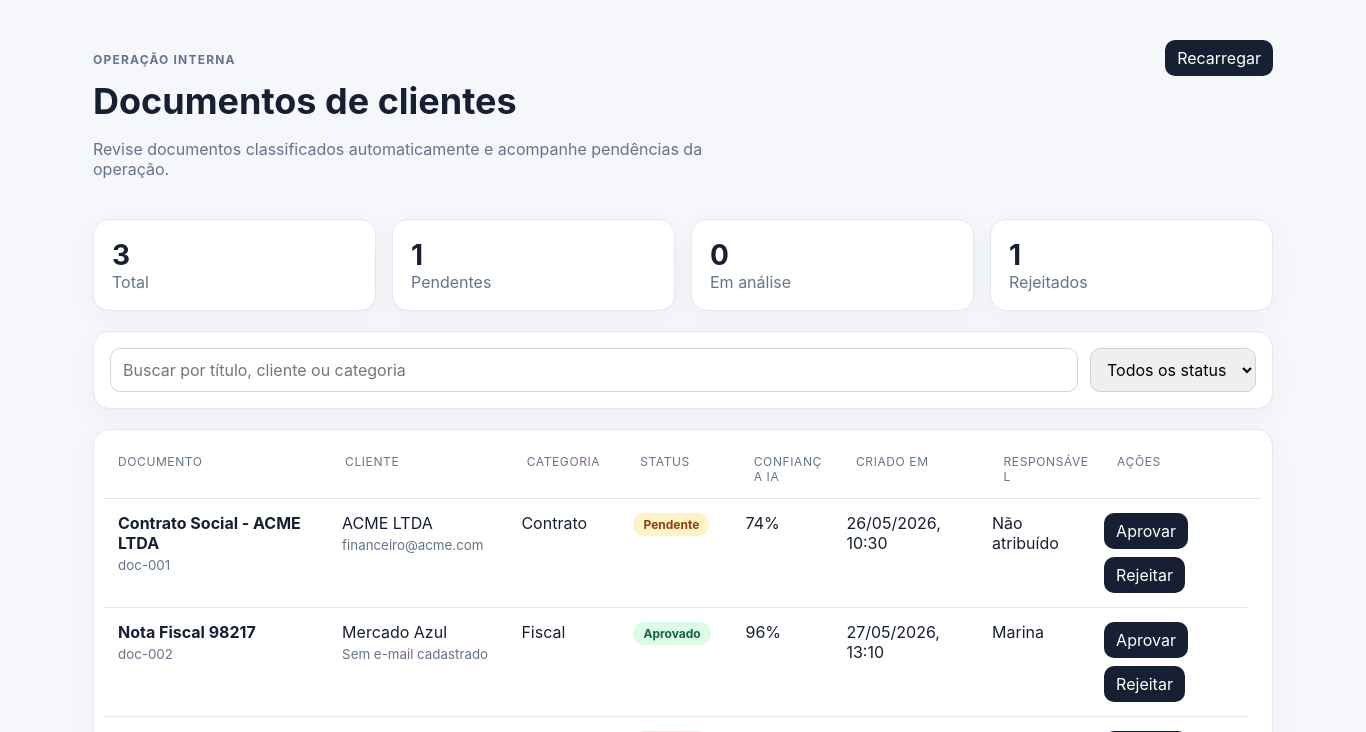
Test case: filtros › busca filtra por título/cliente/categoria (com debounce)
The image size is (1366, 732).
expect the text "Contrato Social - ACME LTDA" is shown: met, box 118,513 -> 301,553
In the field with placeholder "Buscar por título, cliente ou categoria": point(594, 370) 110,348 -> 1078,392, type "DANFE"
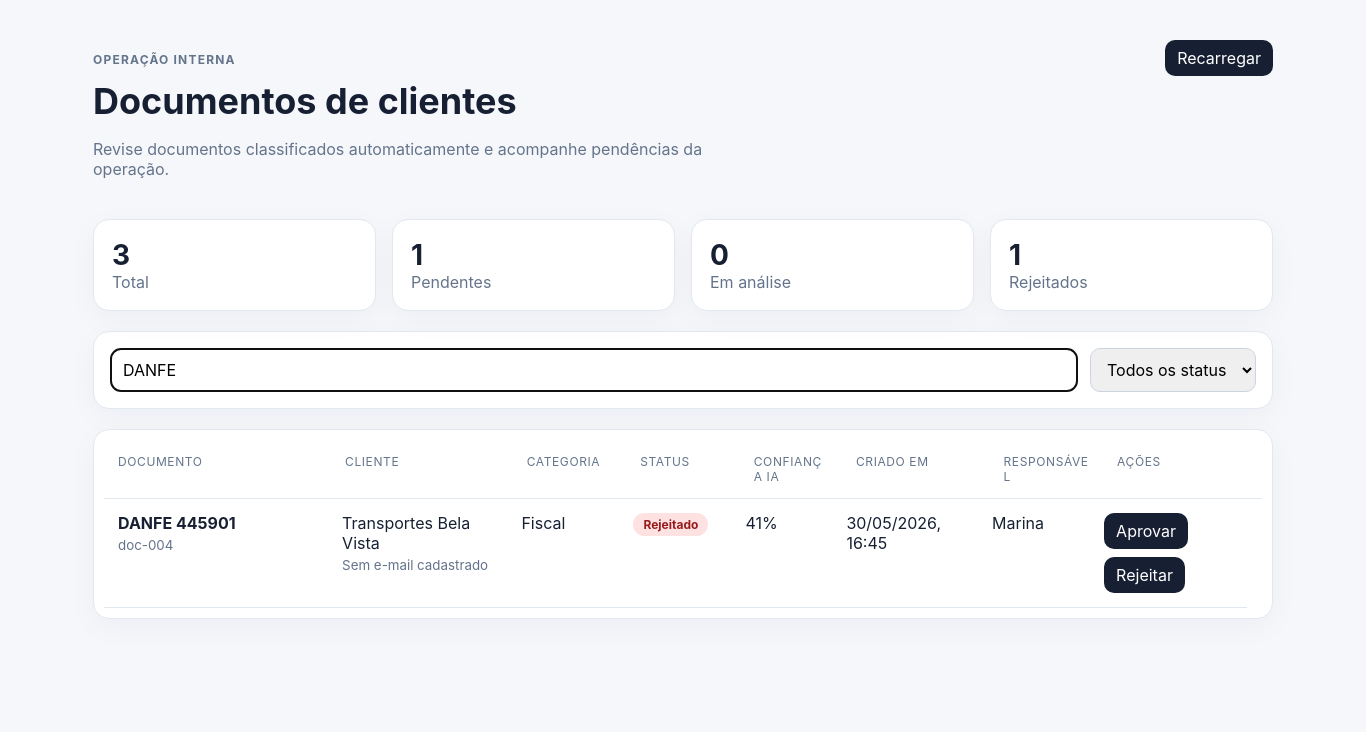
expect the text "DANFE 445901" is shown: met, box 118,513 -> 236,533
expect the text "Contrato Social - ACME LTDA" is gone: met
